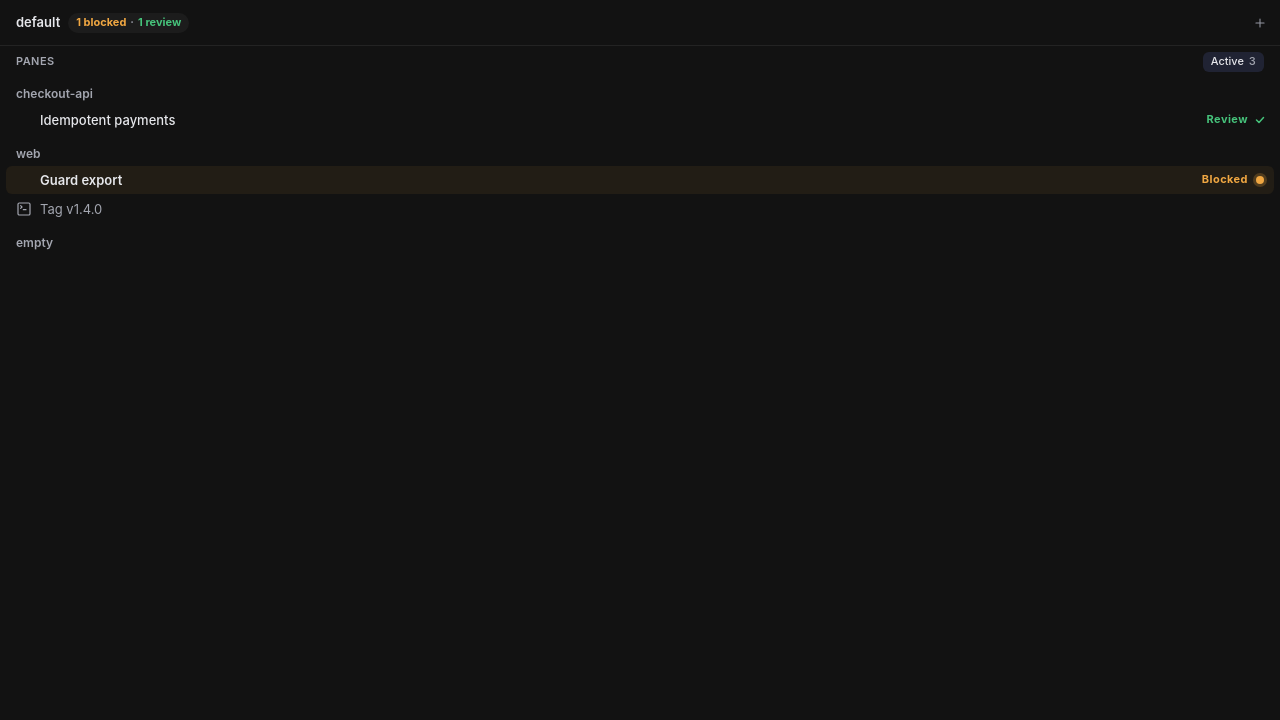
Test case: AgentList › closing a tab or workspace with work running › keeps the plain confirmation, Close first, when nothing runs
The image size is (1280, 720).
Right-click the button "checkout-api" at (54, 94), box [16, 86, 93, 102]
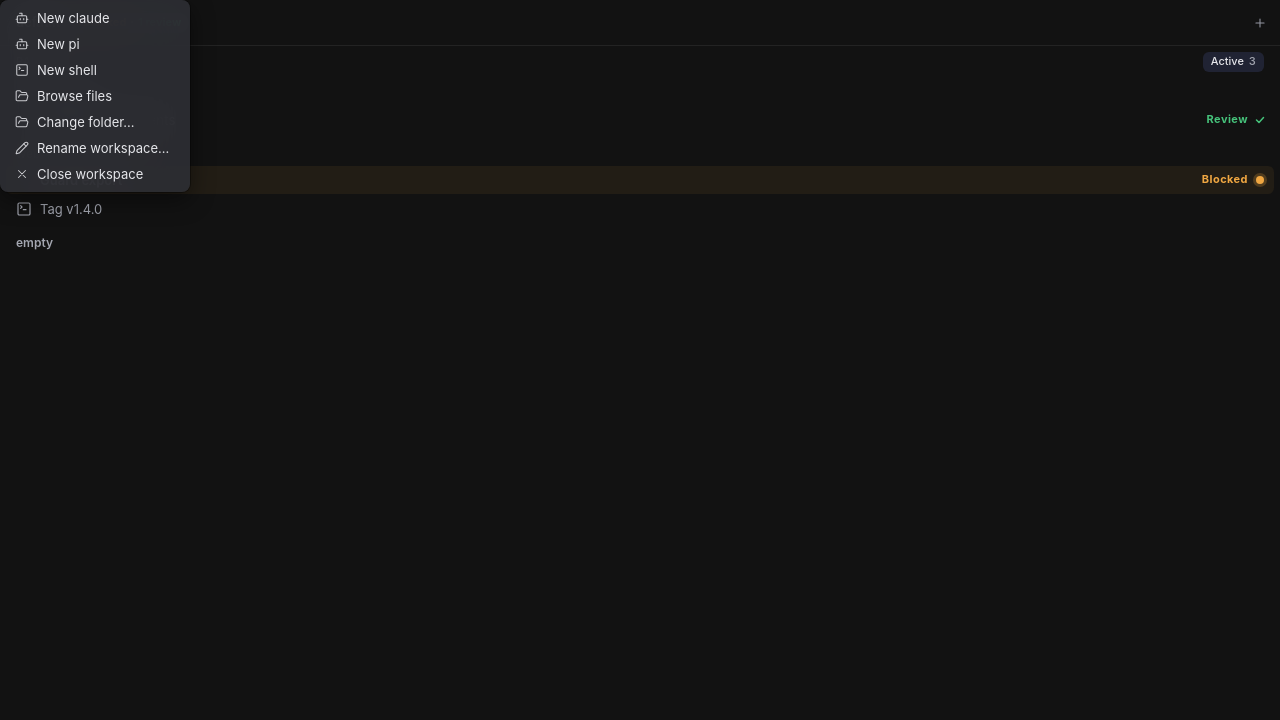
Click the menu item "Close workspace" at (95, 174), box [5, 161, 185, 187]
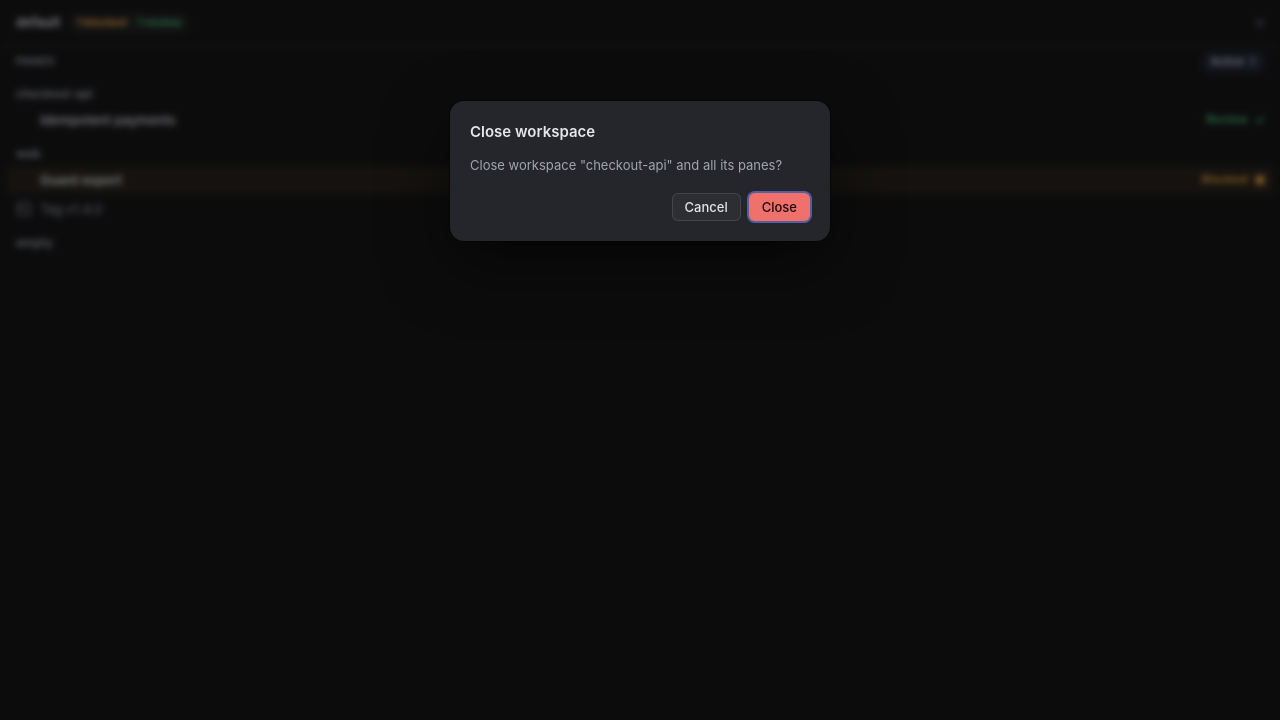
Expected: the button "Close" is shown, [749, 193, 810, 221]
